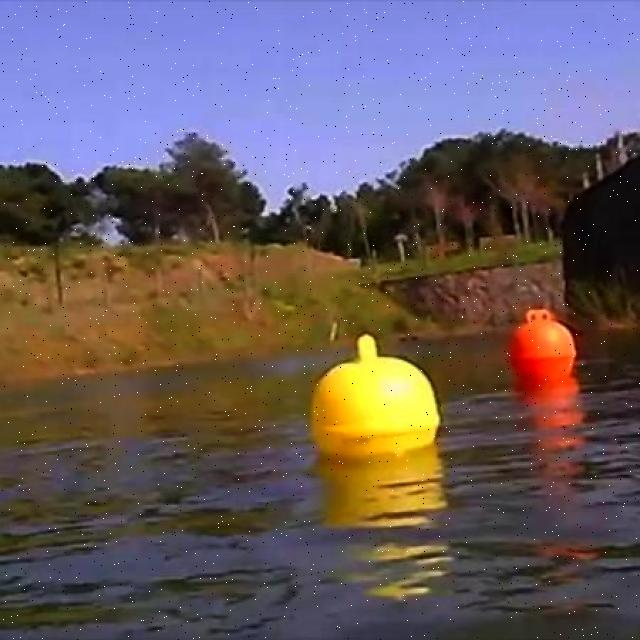buoy: (310, 334, 442, 455), (507, 308, 577, 376)
